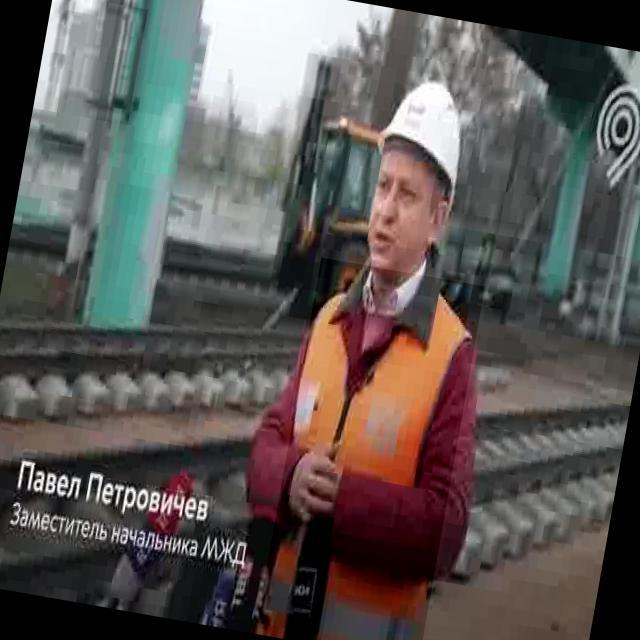Helmet: (367, 72, 473, 209)
Safety Vest: (254, 257, 484, 640)
